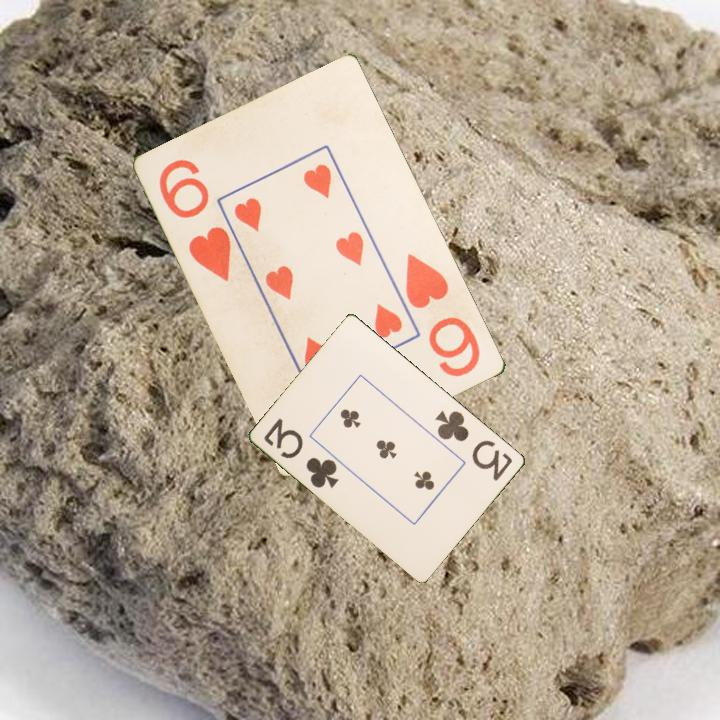3c: (432, 407, 516, 484), (260, 414, 342, 491)
6h: (402, 249, 484, 380), (156, 155, 238, 285)
